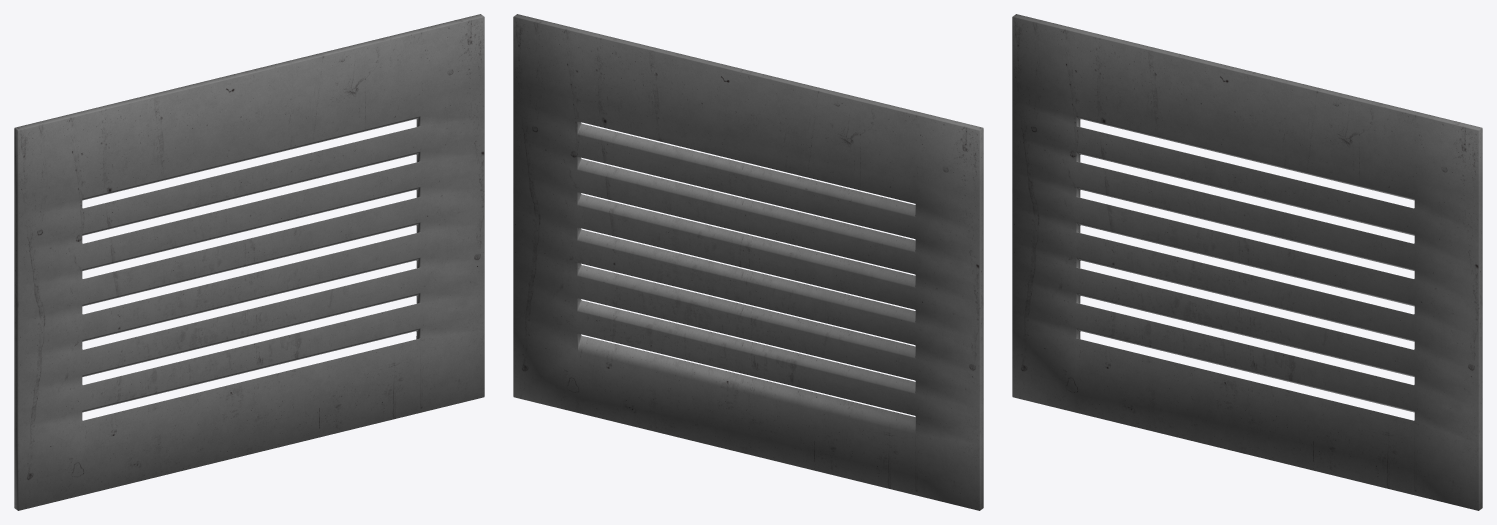
The model's file is airvent_cap.gltf.
3 renders of one model, left to right at view 1: azimuth 30°, elevation 25°; view 2: azimuth 150°, elevation 25°; view 3: azimuth 330°, elevation 25°, orthographic.
Parts seen in each view (by area): view 1: airvent_cap; view 2: airvent_cap; view 3: airvent_cap.
Part boxes in pixels (x1,y1,x2,y2): airvent_cap: (14,14,484,510); airvent_cap: (513,14,983,510); airvent_cap: (1012,14,1482,510).
Bounding box in the file's own units: 0.7776 × 0.6063 × 0.0114.
1 material, 1 textured.
